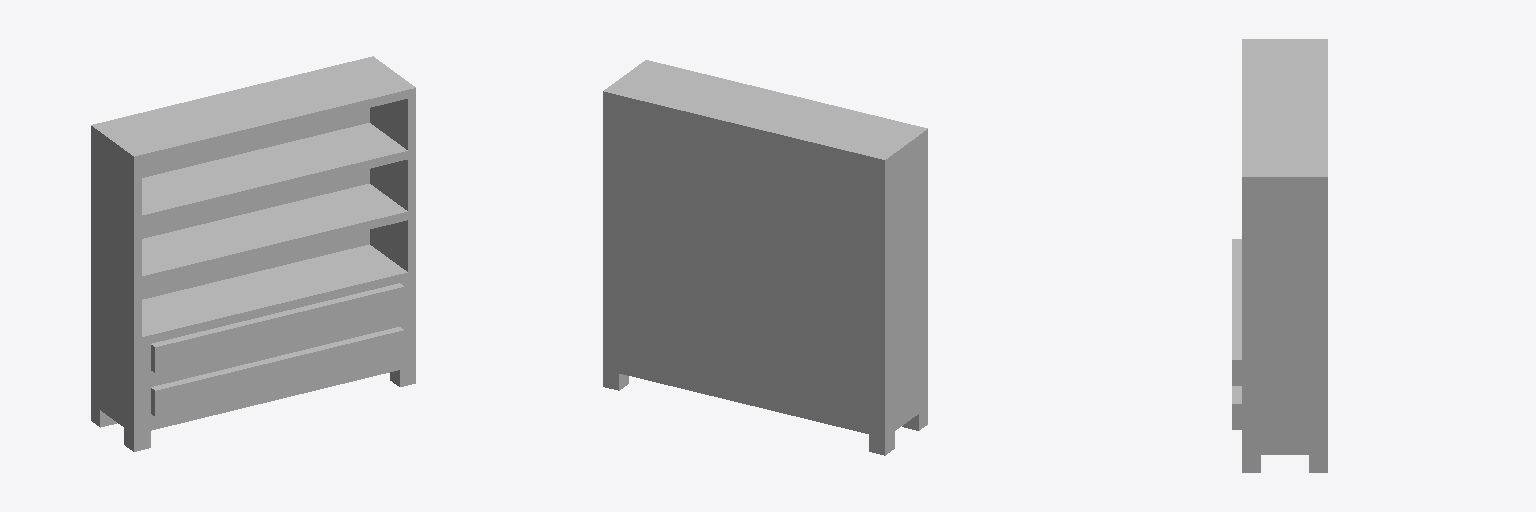
File: cupboard3.obj
The picture shows the model from 3 angles: view 1: azimuth 30°, elevation 25°; view 2: azimuth 150°, elevation 25°; view 3: azimuth 270°, elevation 25°; orthographic projection.
Visible parts, largest first — view 1: cupboard3; view 2: cupboard3; view 3: cupboard3.
Part boxes in pixels (bbox=[...]): cupboard3: bbox=[91, 56, 415, 451]; cupboard3: bbox=[603, 60, 927, 455]; cupboard3: bbox=[1232, 39, 1327, 472].
Bounding box in the file's own units: 68 × 68 × 20.